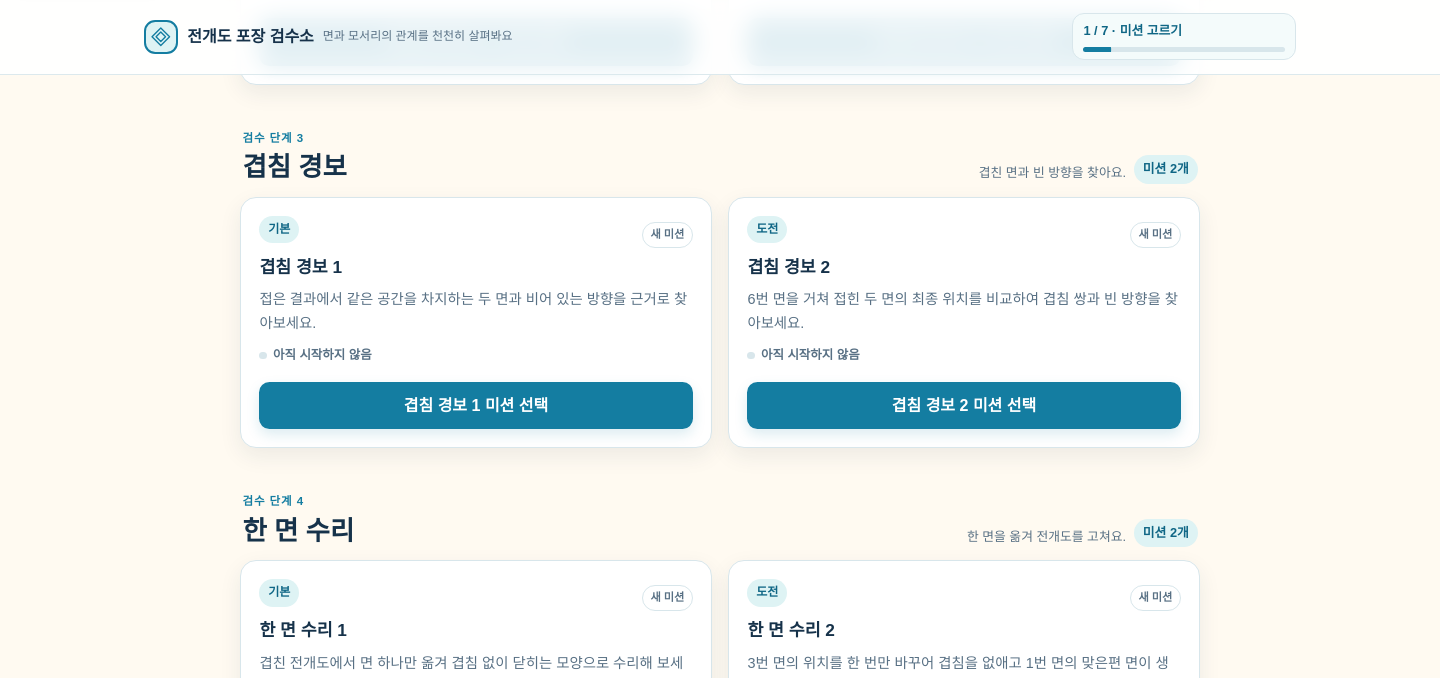
Test: AppShell › shows the repair path before diagnosis and evidence for a collision mission
(page scrolled)
Click the button "겹침 경보 1 미션 선택" at (476, 405), box [259,382,693,429]
(page scrolled)
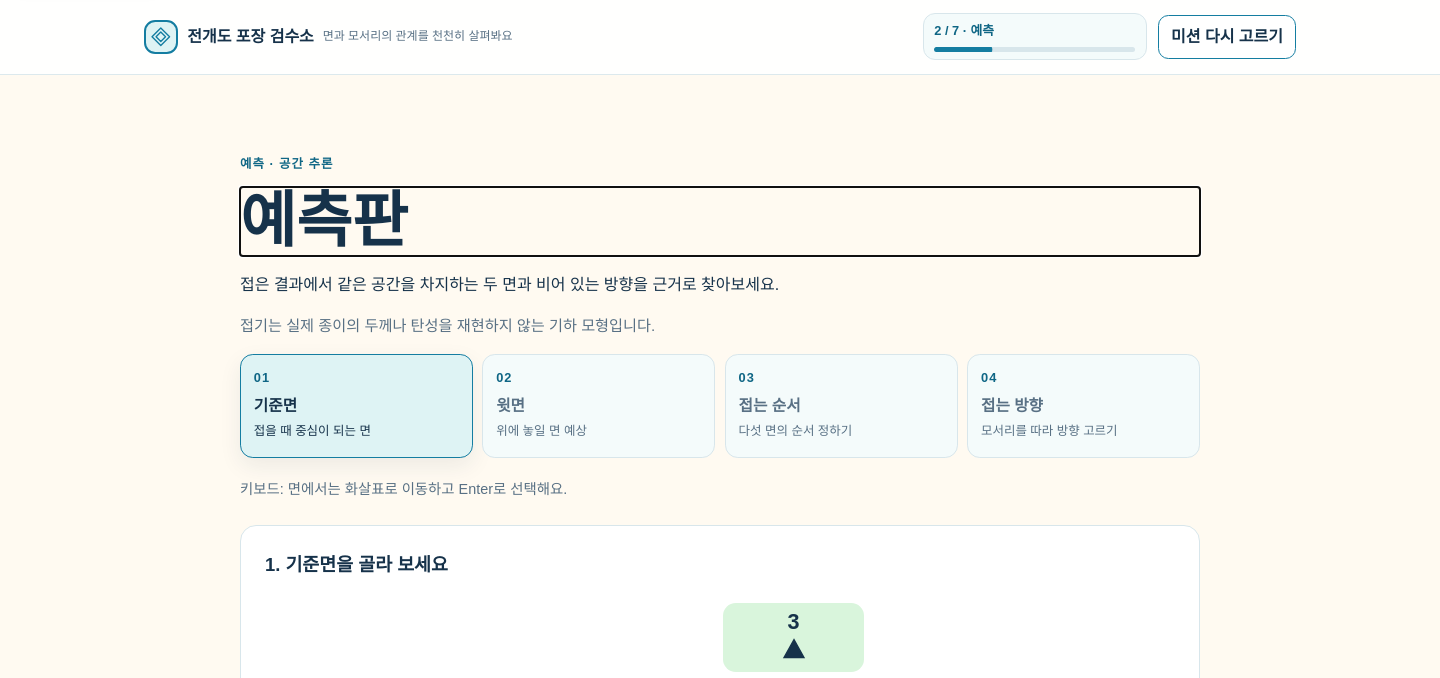
Now the text "2 / 7 · 예측" is shown, box [934,23,994,38]
